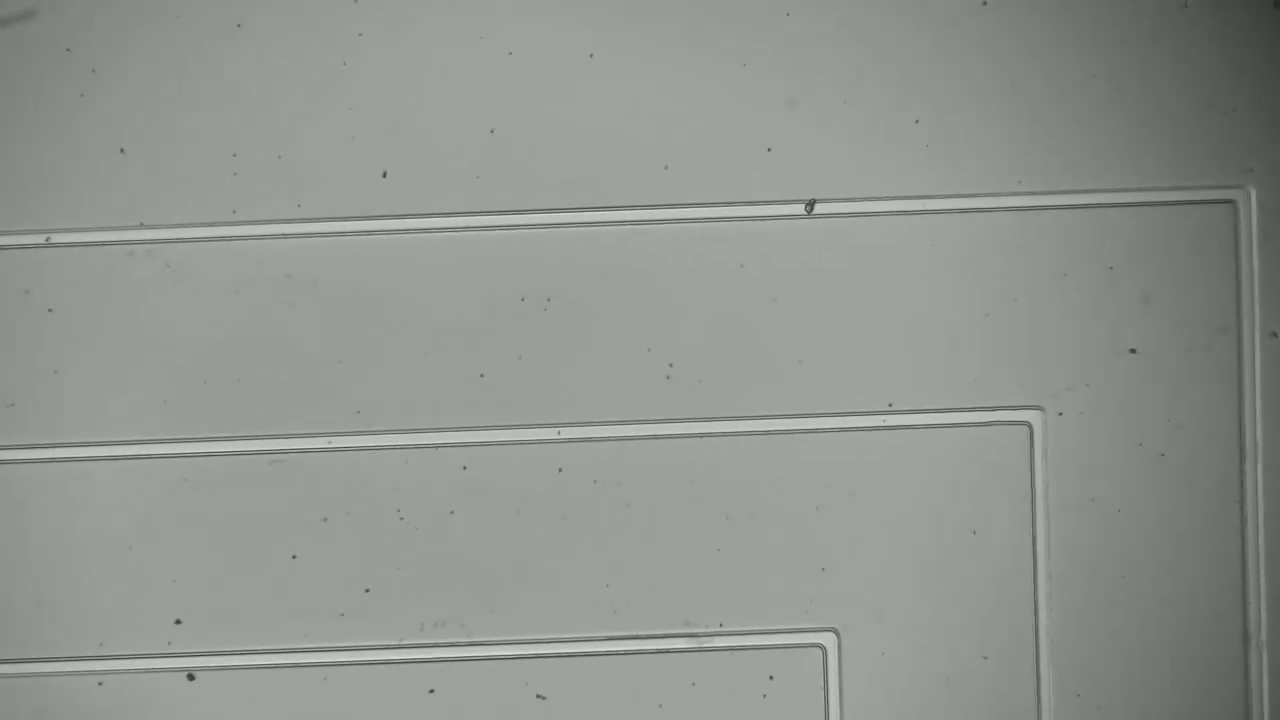stains_enbedded: (796, 192, 827, 224)
